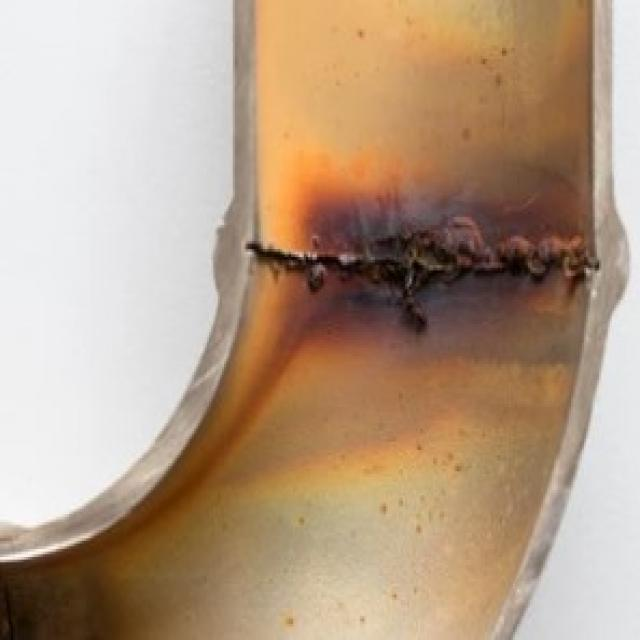Bad Welding: (242, 187, 592, 332)
